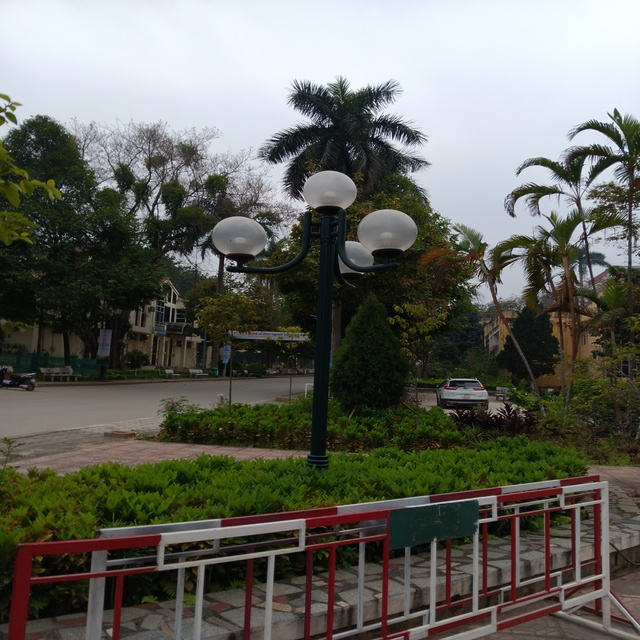cotden: (195, 159, 443, 480)
